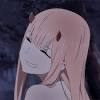zeroTwo: (17, 5, 91, 74)
